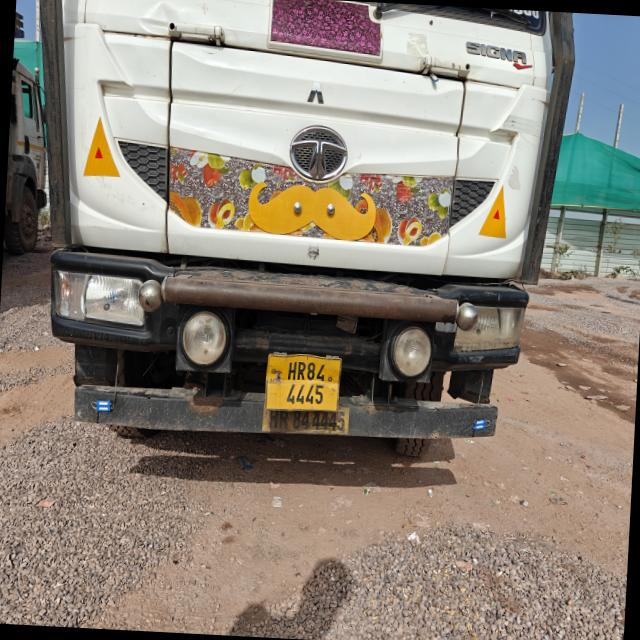license_plate: (265, 355, 341, 412), (262, 408, 348, 435)
